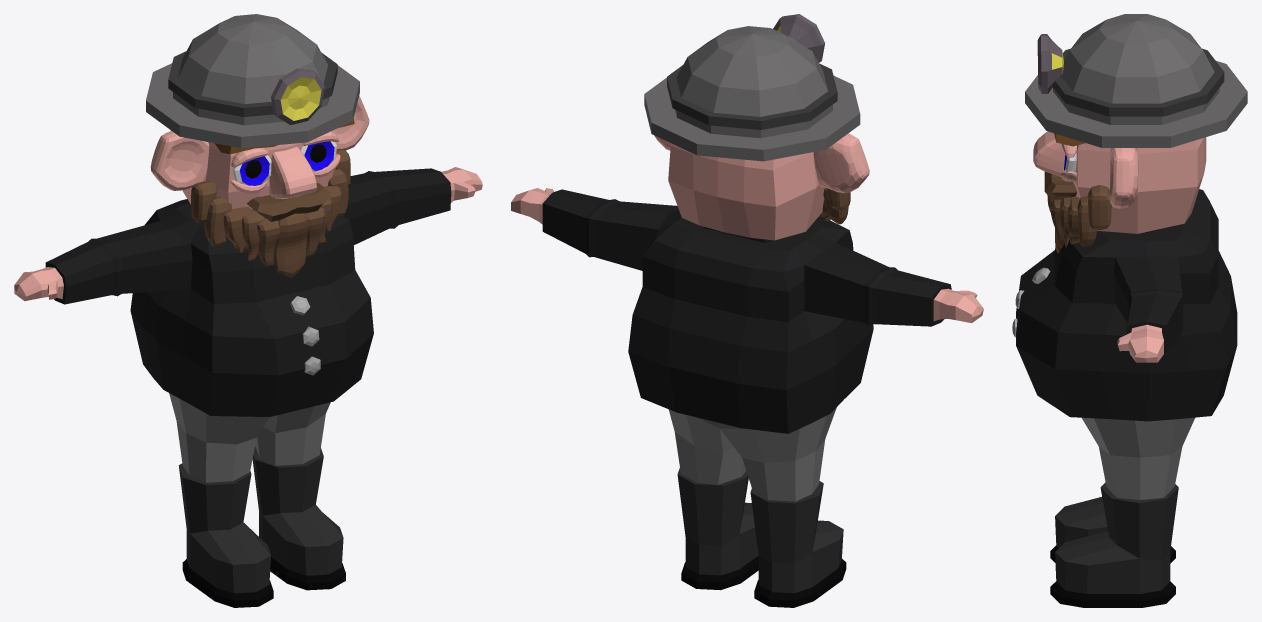
Rendered from Rudar_Color.fbx.
3 renders of one model, left to right at view 1: azimuth 30°, elevation 25°; view 2: azimuth 150°, elevation 25°; view 3: azimuth 270°, elevation 25°, orthographic.
Parts seen in each view (by area): view 1: Cube, Cylinder, Base, Cube.001, Beard, Ears, Light.001, Light_Belt, Base.001, Nose, Eyes, Mustache (+1 smaller); view 2: Cube, Base, Cylinder, Base.001, Cube.001, Light_Belt, Ears, Light.001, Beard; view 3: Cube, Base, Cylinder, Base.001, Cube.001, Light_Belt, Beard, Ears, Light.001, Nose, Mustache.
Boxes of the visible parts, x1,y1,x2,y2 form: Cube: (14,167,482,416); Cylinder: (178,446,345,607); Base: (146,14,359,148); Cube.001: (169,393,330,482); Beard: (191,148,350,277); Ears: (150,96,369,190); Light.001: (271,68,324,124); Light_Belt: (168,51,337,116); Base.001: (170,130,333,209); Nose: (269,147,316,198); Eyes: (232,141,336,185); Mustache: (246,182,330,221); Cube: (511,188,983,433); Base: (644,26,860,161); Cylinder: (677,468,846,607); Base.001: (668,143,824,240); Cube.001: (668,408,836,501); Light_Belt: (667,63,837,129); Ears: (649,126,869,193); Light.001: (773,14,824,62); Beard: (818,187,850,224); Cube: (1012,189,1237,421); Base: (1025,14,1247,147); Cylinder: (1050,482,1178,607); Base.001: (1073,137,1206,233); Cube.001: (1082,417,1194,499); Light_Belt: (1052,48,1224,116); Beard: (1047,185,1111,252); Ears: (1109,148,1138,208); Light.001: (1037,34,1063,93); Nose: (1033,131,1065,176); Mustache: (1044,171,1077,199).
Size of the model in its own units: 638 by 718 by 276.
